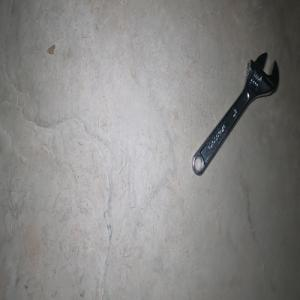Wrench: (191, 52, 278, 175)
